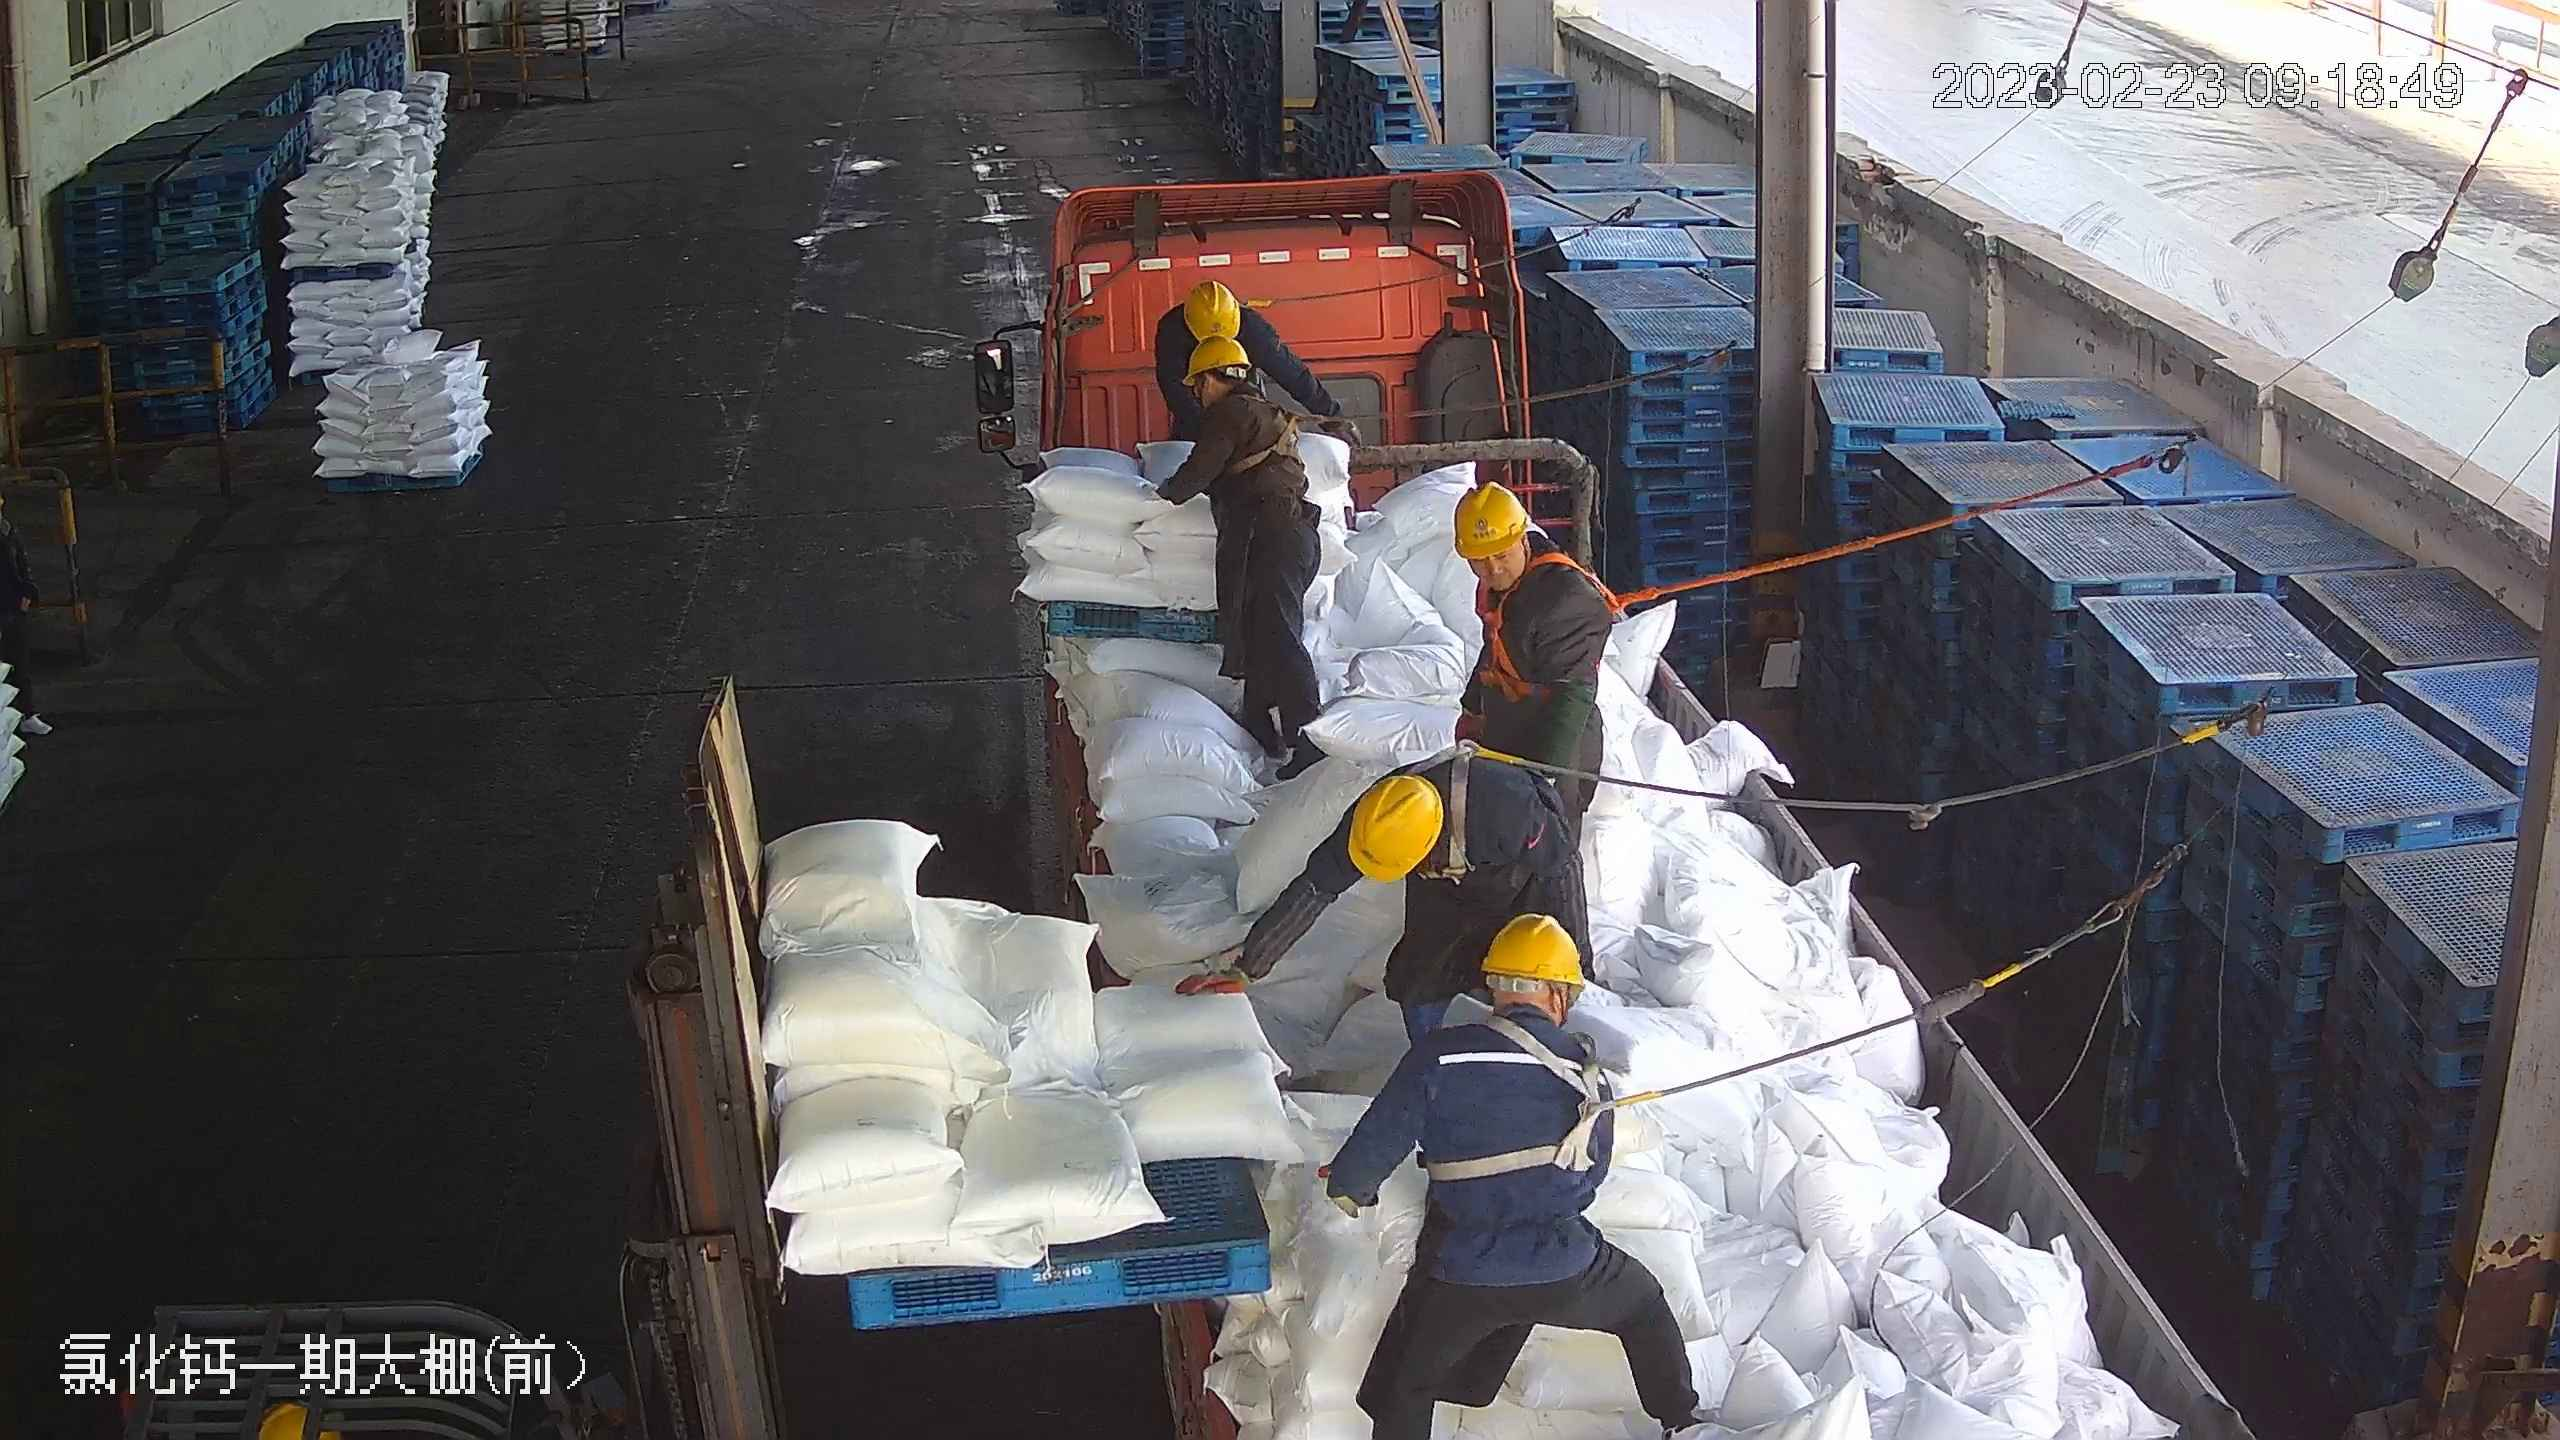belt: (1435, 1004, 1668, 1184), (1463, 553, 1647, 696), (1392, 742, 1529, 881), (1223, 389, 1322, 475), (1235, 282, 1281, 315)
head: (1406, 907, 1617, 1108), (1337, 723, 1535, 892), (1448, 483, 1599, 649), (1182, 339, 1293, 451), (1169, 281, 1279, 364)
helmet: (1350, 775, 1443, 882), (1478, 911, 1585, 988), (1451, 481, 1529, 562), (1184, 334, 1246, 388), (1182, 282, 1236, 342)
people: (1327, 908, 1704, 1434), (1166, 757, 1624, 1004), (1156, 345, 1329, 776), (1445, 478, 1612, 839)
truck: (979, 152, 2245, 1440)
